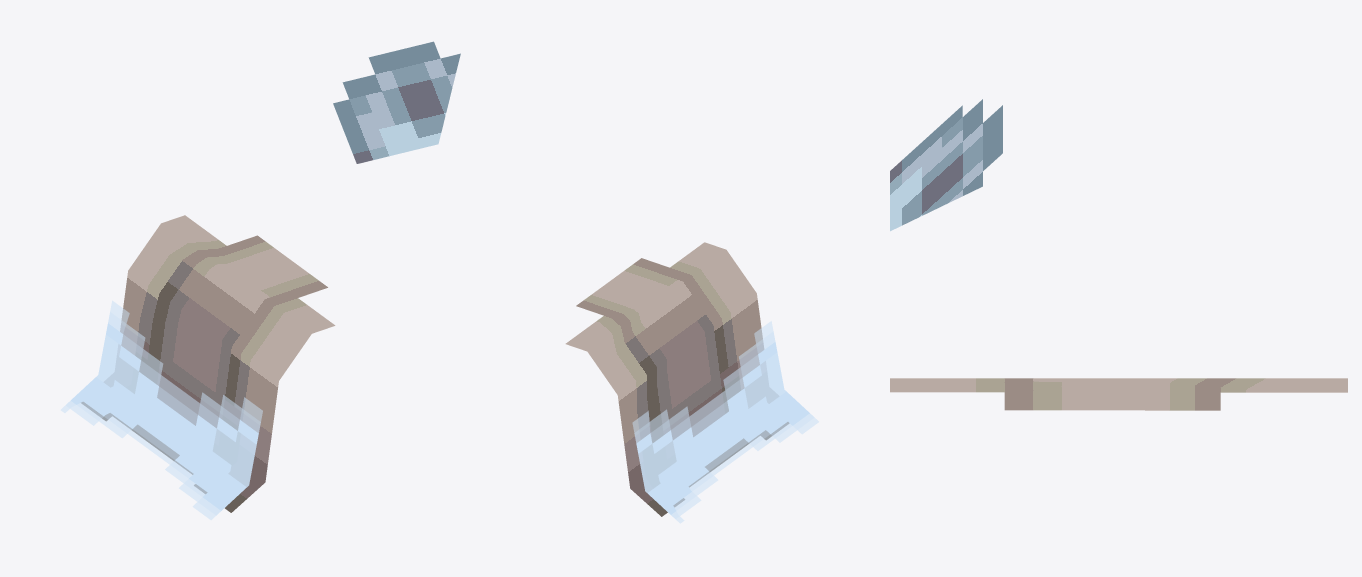
3 renders of one model, left to right at view 1: azimuth 30°, elevation 25°; view 2: azimuth 150°, elevation 25°; view 3: azimuth 270°, elevation 25°, orthographic. The views are drawn at different scales.
Bounding box in the file's own units: 1.34 × 1.58 × 1.
Materials: 3 (3 with a texture image).
